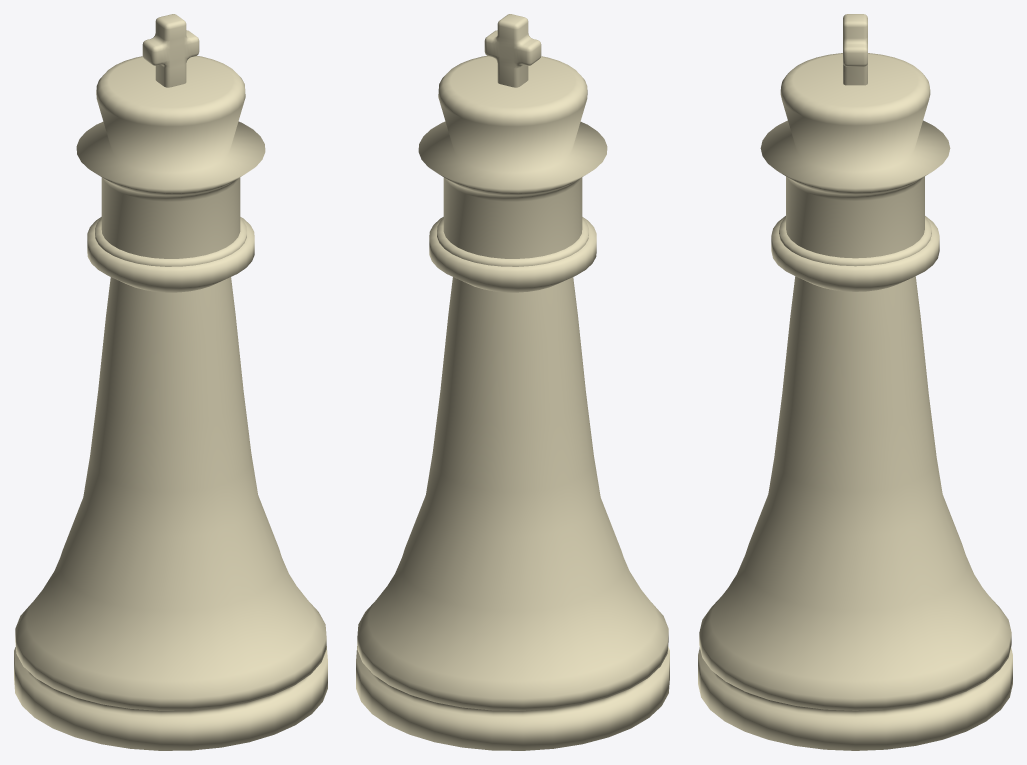
The model's file is king_white.gltf.
3 views of the same model, side by side, from view 1: azimuth 30°, elevation 25°; view 2: azimuth 150°, elevation 25°; view 3: azimuth 270°, elevation 25° (orthographic).
Visible parts, largest first — view 1: king_white; view 2: king_white; view 3: king_white.
Boxes of the visible parts, x1,y1,x2,y2 form: king_white: [14, 14, 327, 750]; king_white: [356, 14, 669, 750]; king_white: [698, 14, 1012, 750].
Size of the model in its own units: 1.36 by 3.18 by 1.36.
